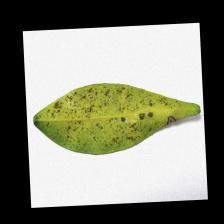canker: (57, 85, 123, 129)
